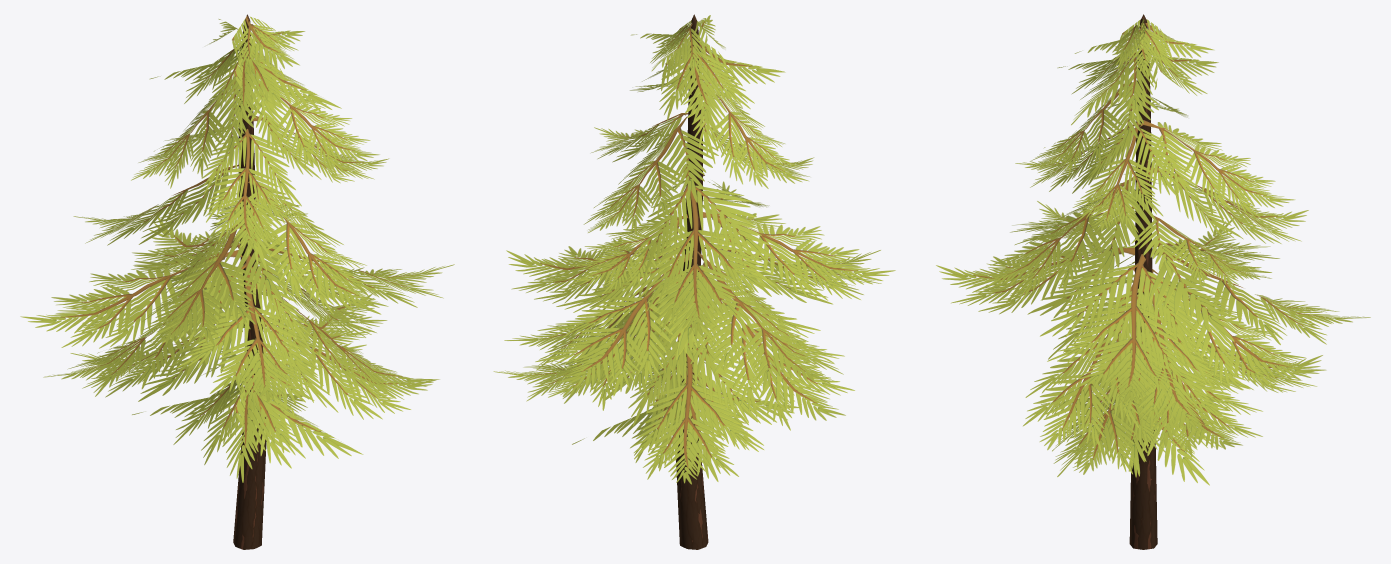
Rendered from PineTree5.glb.
The picture shows the model from 3 angles, left to right: view 1: azimuth 30°, elevation 25°; view 2: azimuth 150°, elevation 25°; view 3: azimuth 270°, elevation 25°; orthographic projection.
Visible parts, largest first — view 1: PineTree_5; view 2: PineTree_5; view 3: PineTree_5.
Boxes of the visible parts, <box> form: PineTree_5: <box>20,14,454,549</box>; PineTree_5: <box>493,14,895,549</box>; PineTree_5: <box>936,14,1370,549</box>.
Size of the model in its own units: 3.31 by 4.3 by 3.29.
2 materials, 2 textured.
